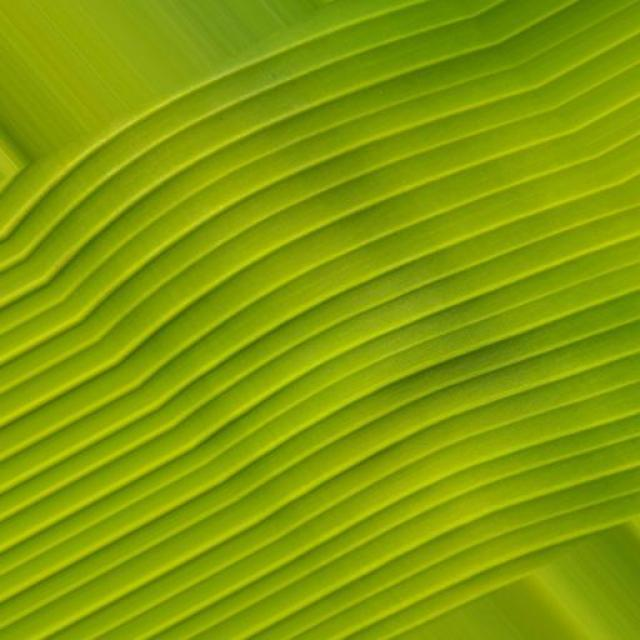Black_leaf_spot: (0, 9, 637, 640)
